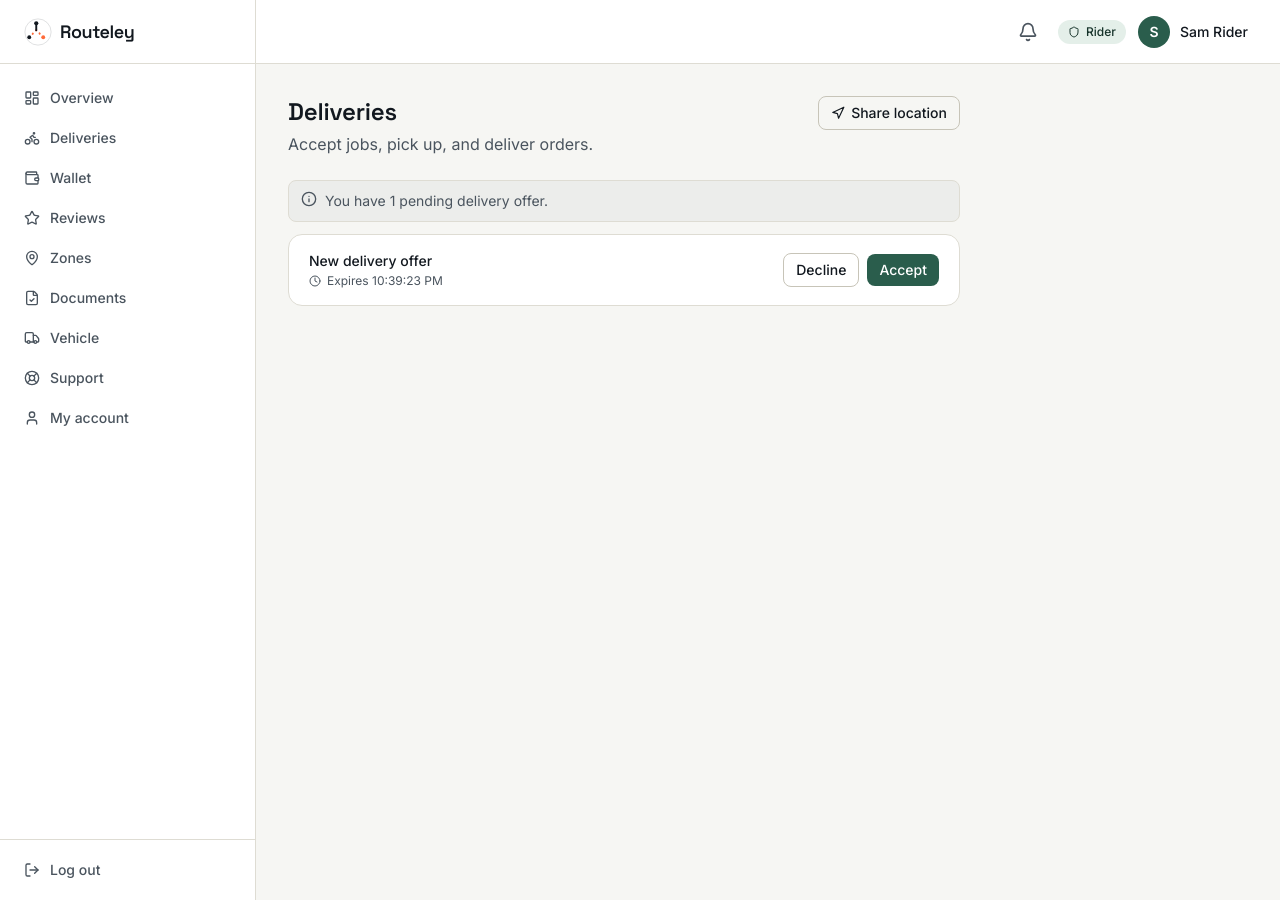
Scenario: DeliveriesPage - critical rider delivery flow › declines an offer and reloads the offer list
Click the button "Decline": (821, 270) [783,253,859,287]
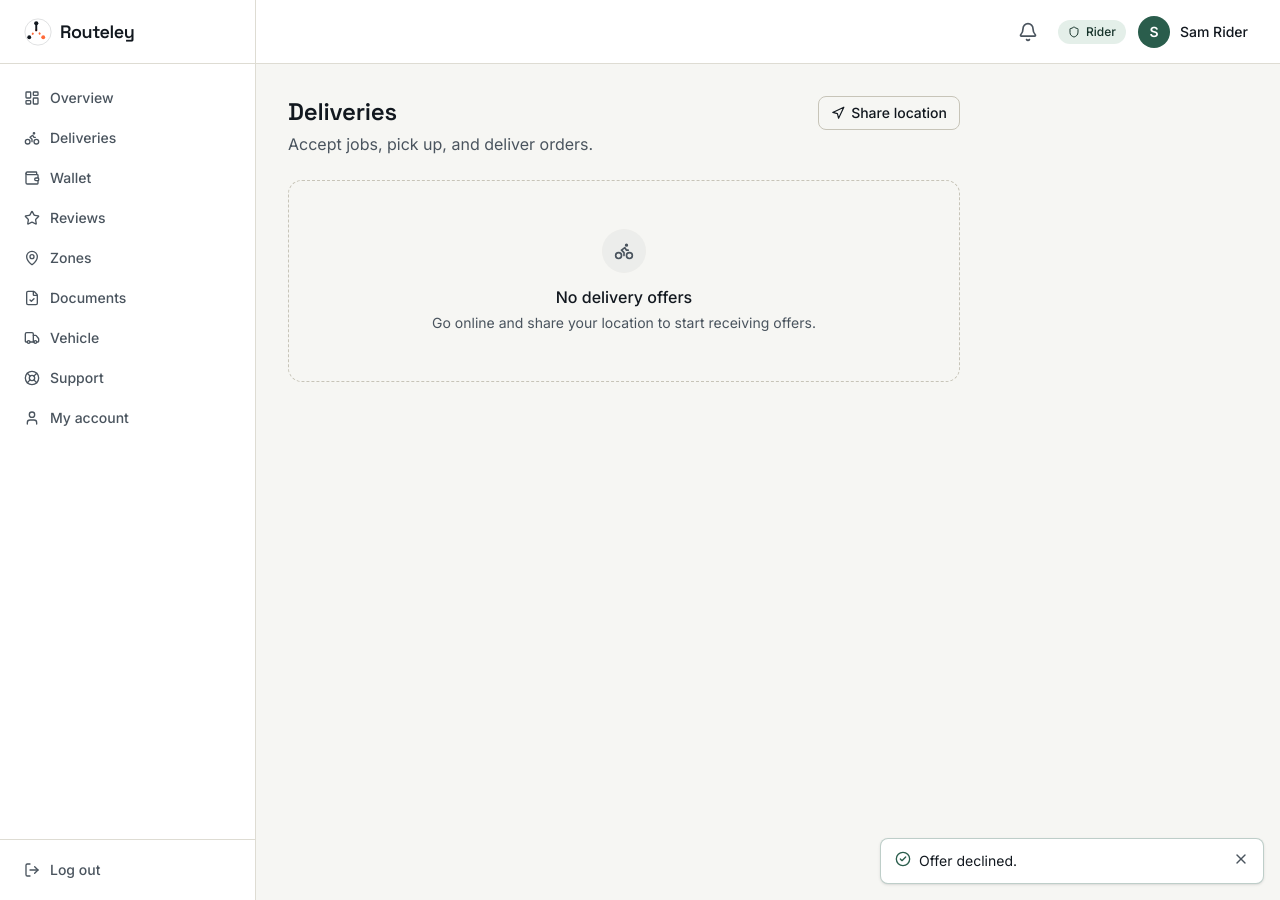
expect the text "Offer declined." is shown: met, box [919,852,1017,869]
